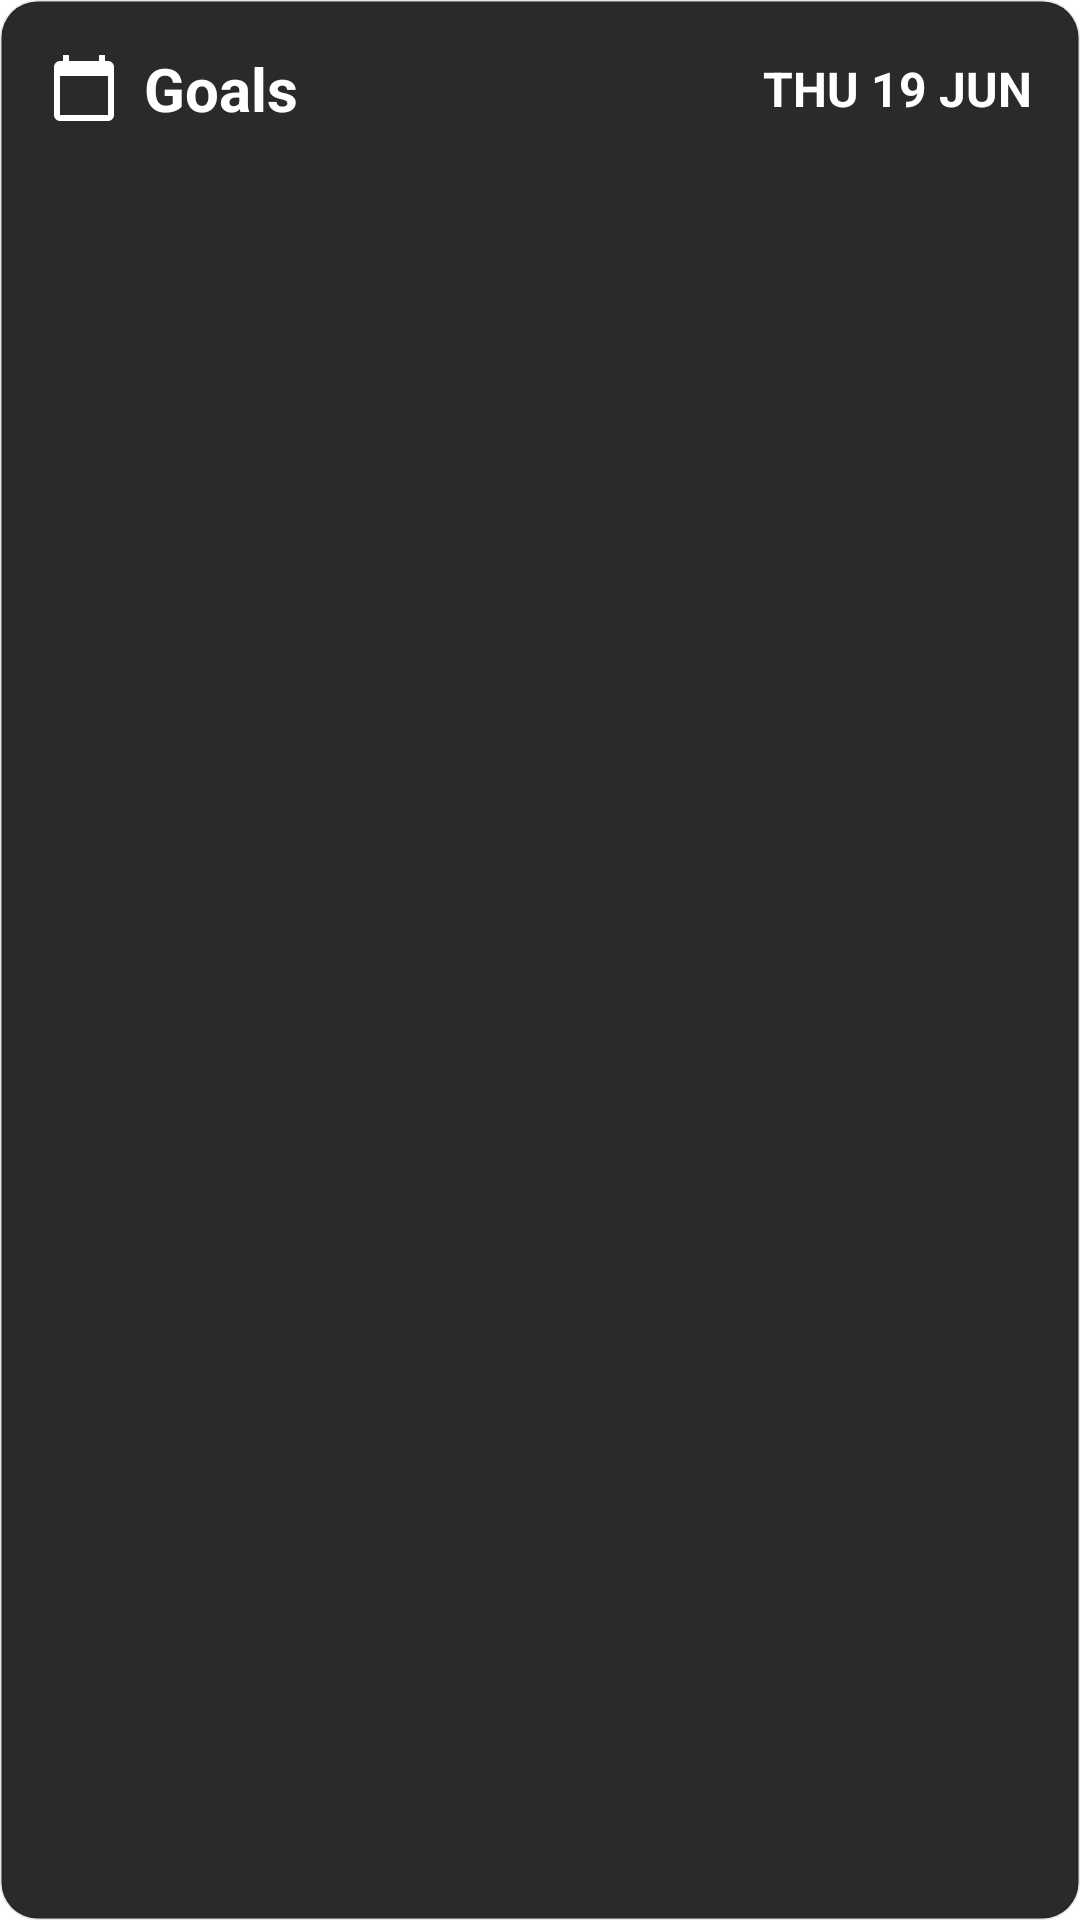

Screen size 1080px×1920px. Icon name, then its center in pixels as (x,y):
calendar: (84,88)
